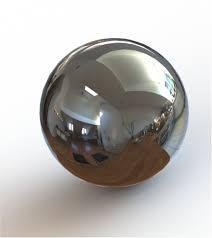steelball: (35, 34, 192, 197)
